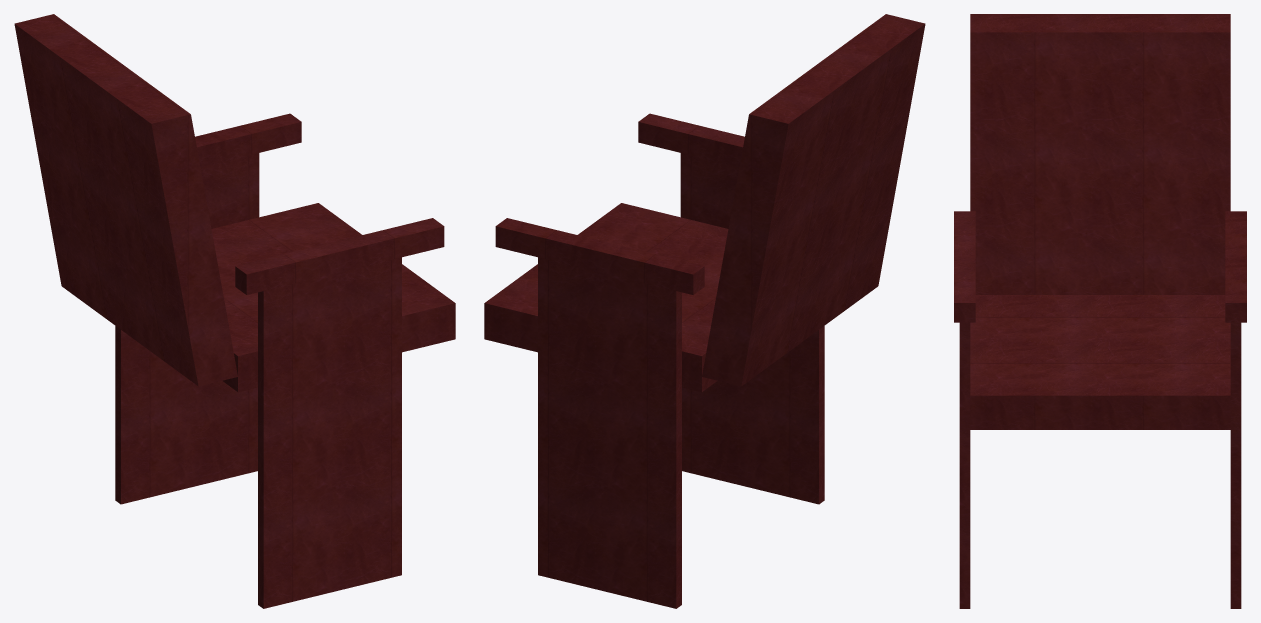
The model's file is chairs.glb.
The picture shows the model from 3 angles, left to right: view 1: azimuth 30°, elevation 25°; view 2: azimuth 150°, elevation 25°; view 3: azimuth 270°, elevation 25°; orthographic projection. The views are drawn at different scales.
Visible parts, largest first — view 1: Chair_Floor; view 2: Chair_Floor; view 3: Chair_Floor.
Part boxes in pixels (x1=…): Chair_Floor: x1=14, y1=14, x2=455, y2=608; Chair_Floor: x1=484, y1=14, x2=925, y2=608; Chair_Floor: x1=954, y1=14, x2=1246, y2=608.
Bounding box in the file's own units: 0.6154 × 0.98 × 0.54.
Materials: 3 (3 with a texture image).
